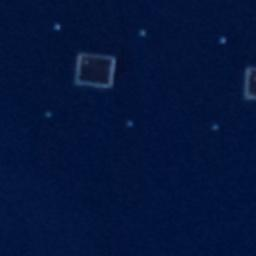square_cover: (71, 48, 119, 90), (239, 62, 256, 103)
